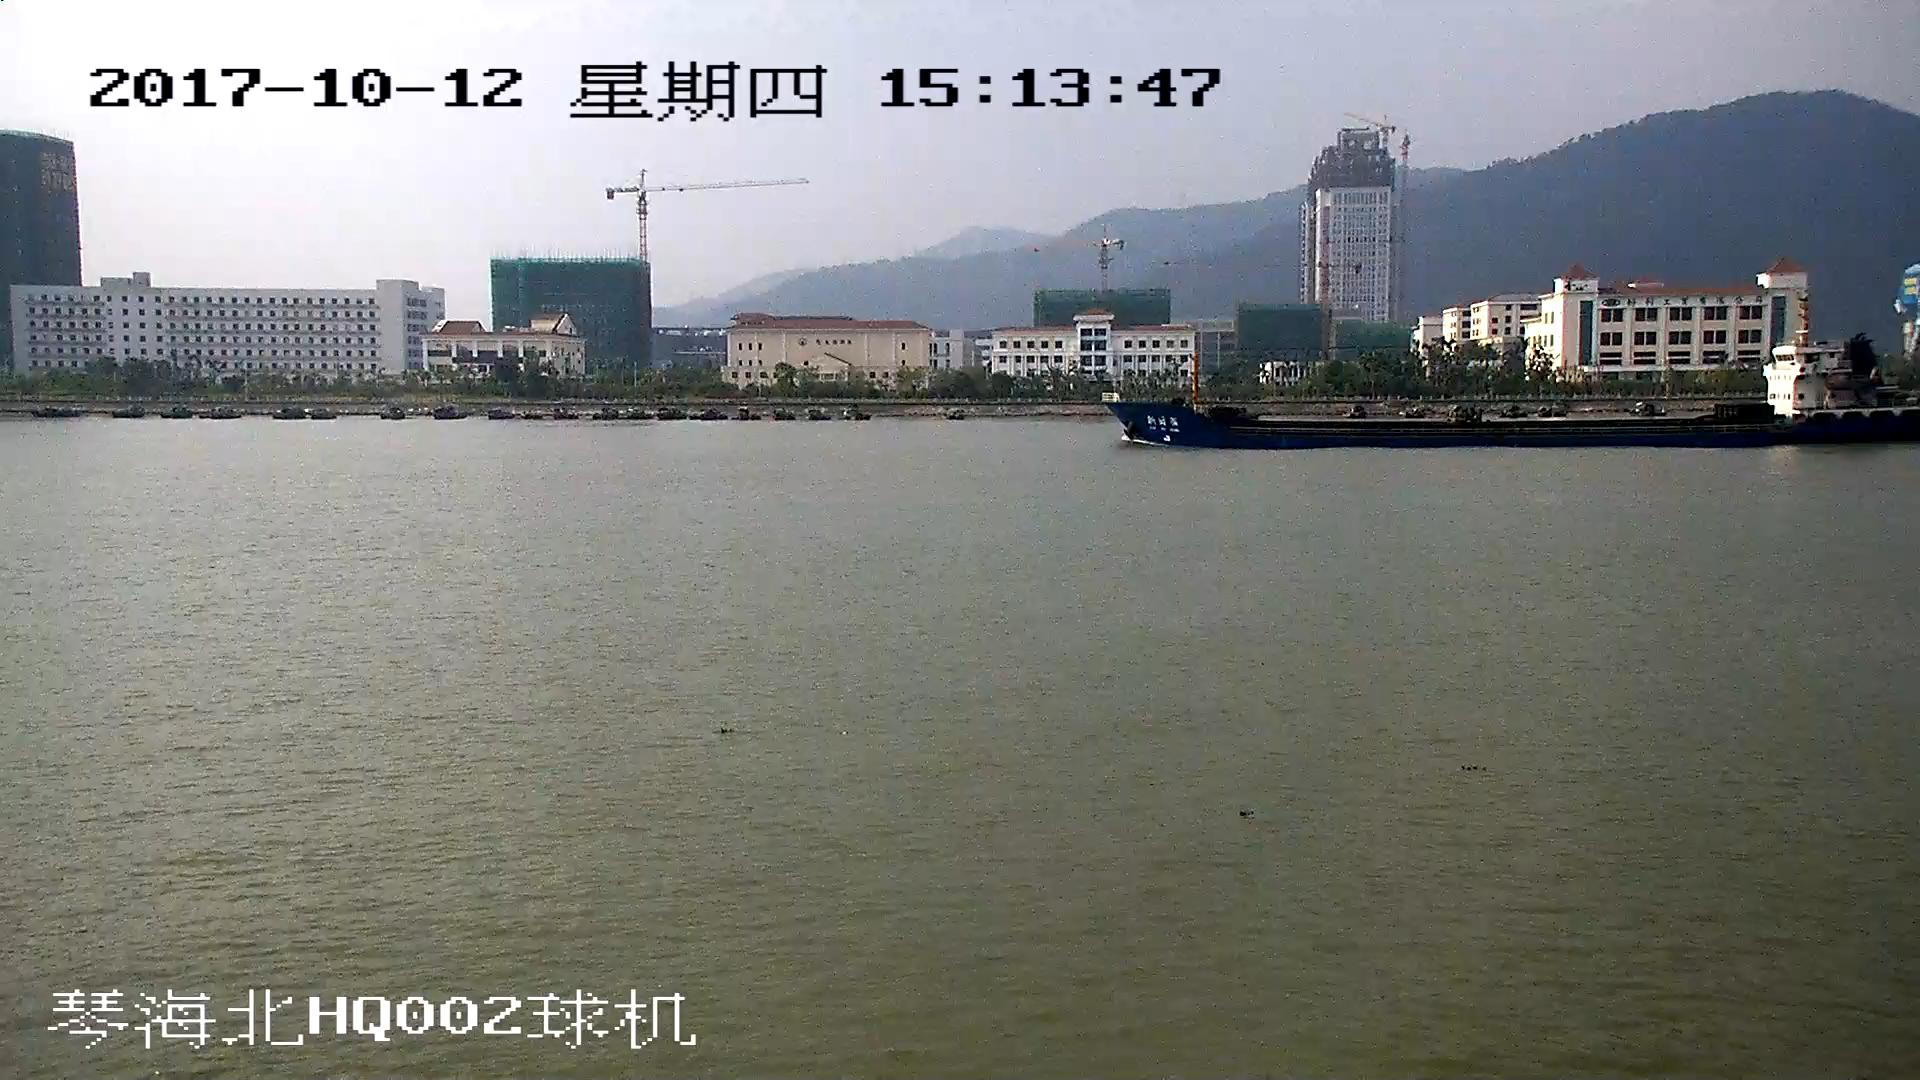general cargo ship: (1104, 328, 1920, 445)
